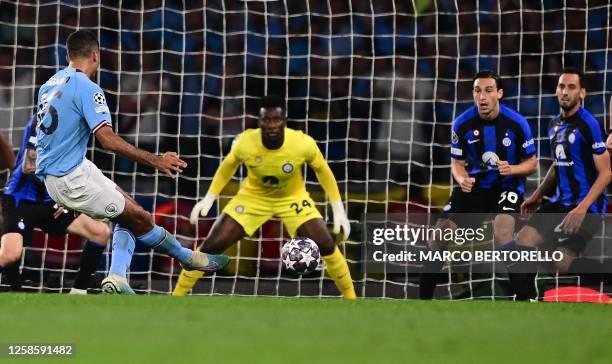Goalkeeper: (191, 96, 355, 298)
Player: (29, 31, 230, 295), (513, 68, 611, 304), (0, 115, 110, 295), (430, 71, 538, 249)
ball: (281, 238, 320, 276)
